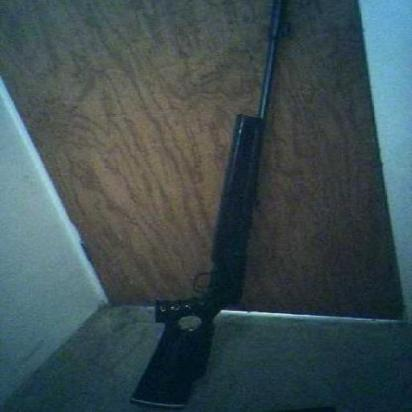Gun: (115, 0, 311, 411)
